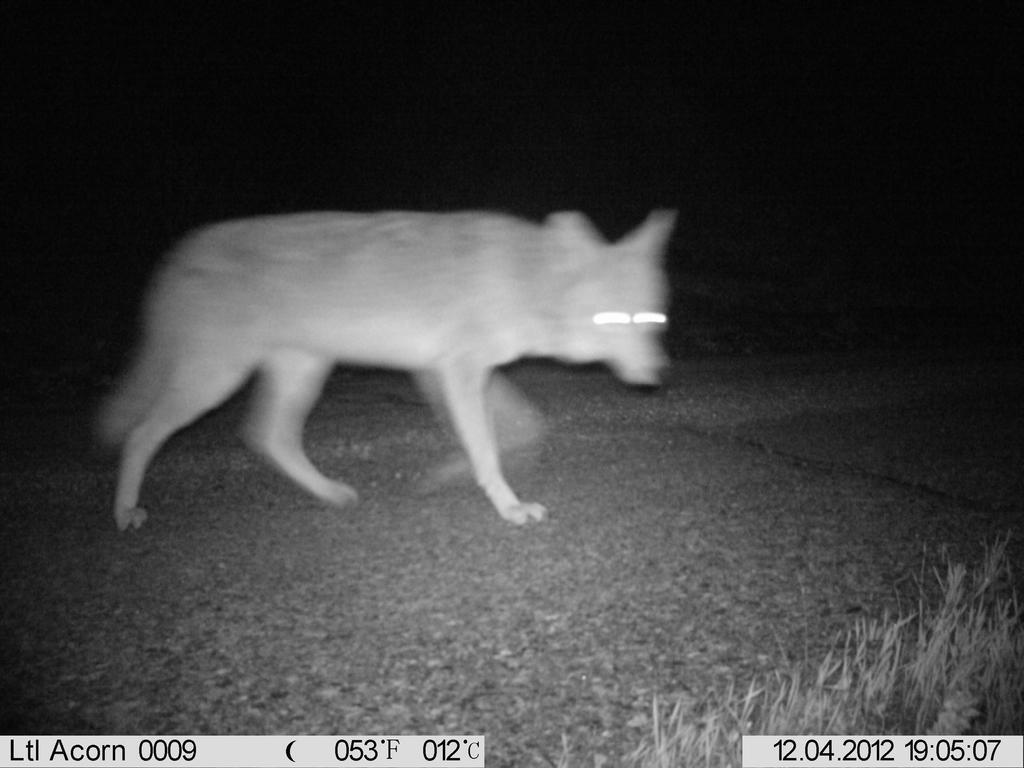coyote: (95, 197, 688, 548)
